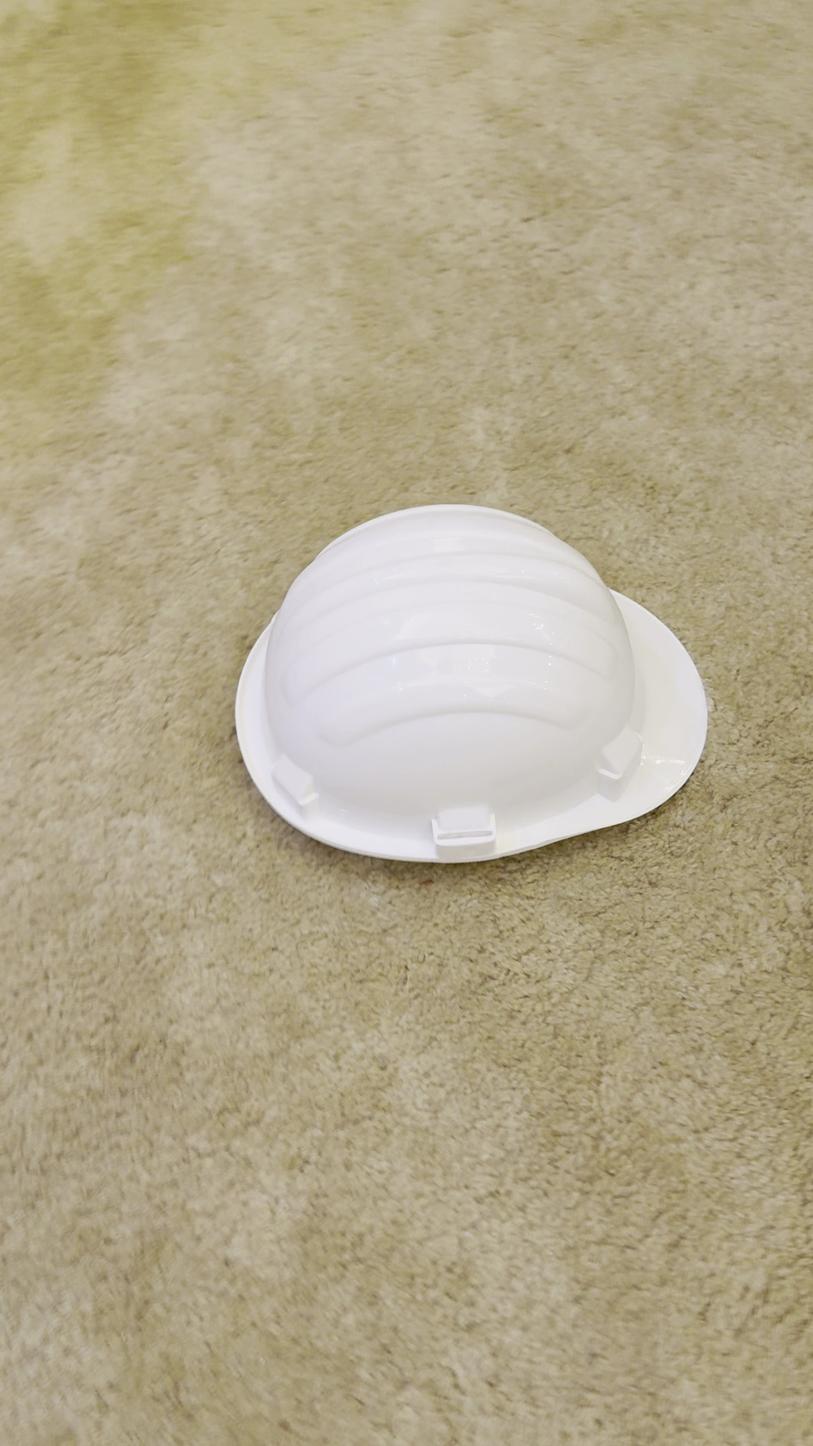safety_helmet: (232, 500, 709, 867)
